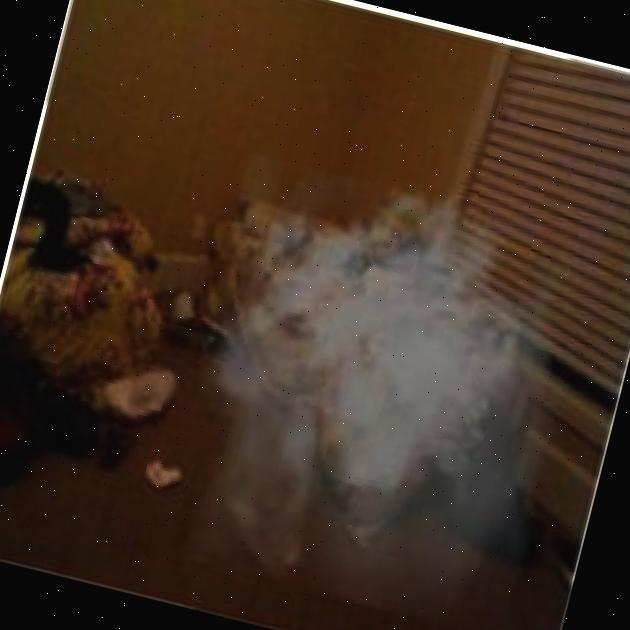smoke: (148, 137, 608, 630)
